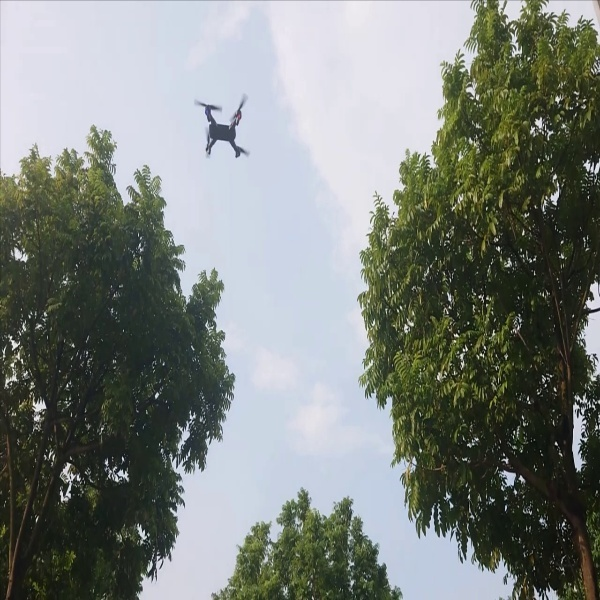drone: (189, 89, 256, 167)
